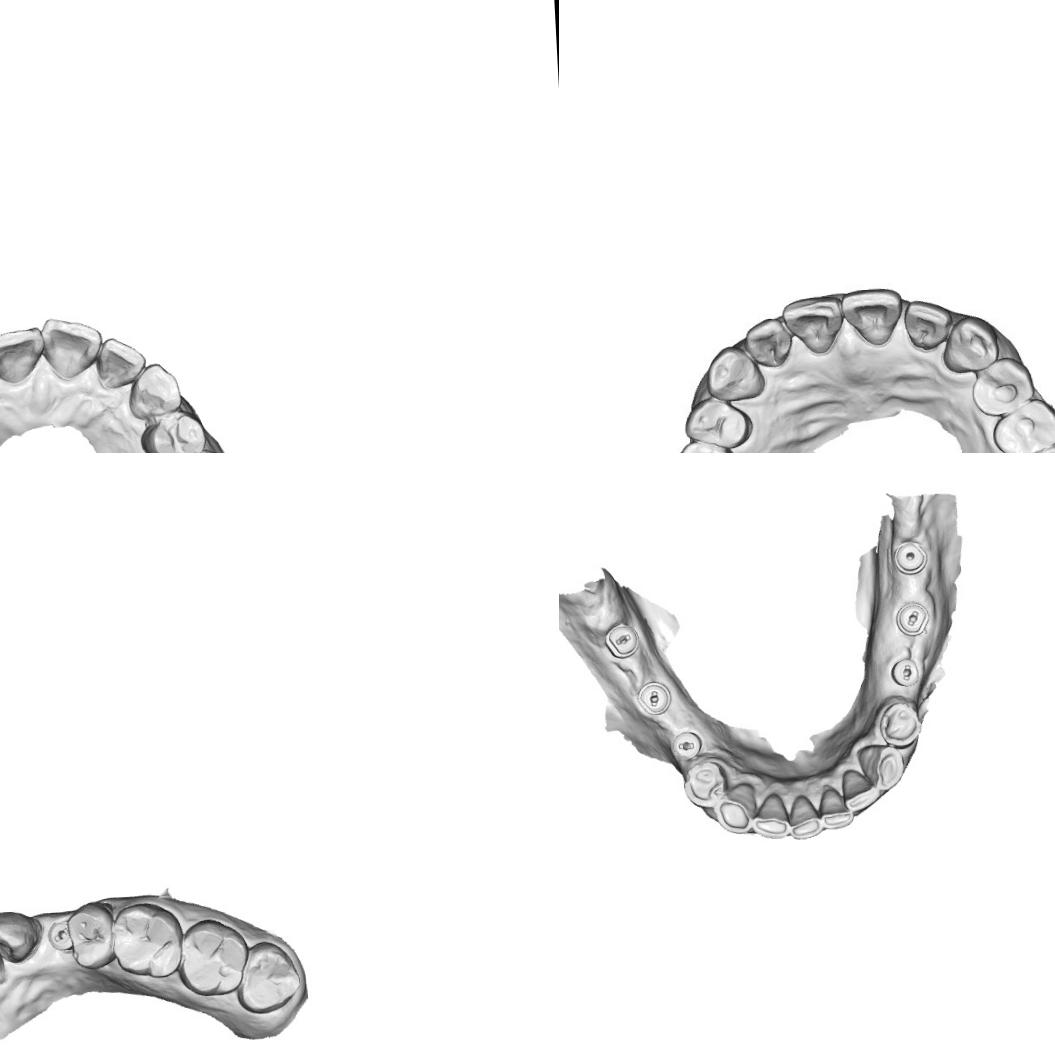canine: (698, 342, 767, 404), (939, 314, 1001, 375), (125, 360, 183, 422), (854, 740, 905, 792), (0, 903, 42, 964), (710, 781, 757, 835)
implant: (892, 536, 928, 575)
implant_minus: (602, 620, 640, 660), (893, 601, 931, 638), (634, 679, 672, 716), (888, 656, 920, 689), (670, 729, 702, 760), (45, 918, 74, 951)
incisor: (40, 314, 102, 382), (780, 294, 845, 357), (843, 284, 899, 342), (95, 334, 148, 390), (0, 325, 44, 386), (742, 314, 792, 367), (900, 299, 950, 348), (750, 791, 790, 840), (840, 767, 880, 813), (787, 792, 822, 840), (818, 786, 854, 832)
molar: (175, 914, 251, 998), (109, 899, 186, 980), (232, 937, 302, 1016)
premolar: (967, 352, 1035, 415), (682, 394, 752, 452), (62, 899, 114, 973), (989, 400, 1055, 453), (137, 408, 208, 453), (680, 757, 728, 810), (877, 700, 924, 750), (673, 435, 735, 453)
